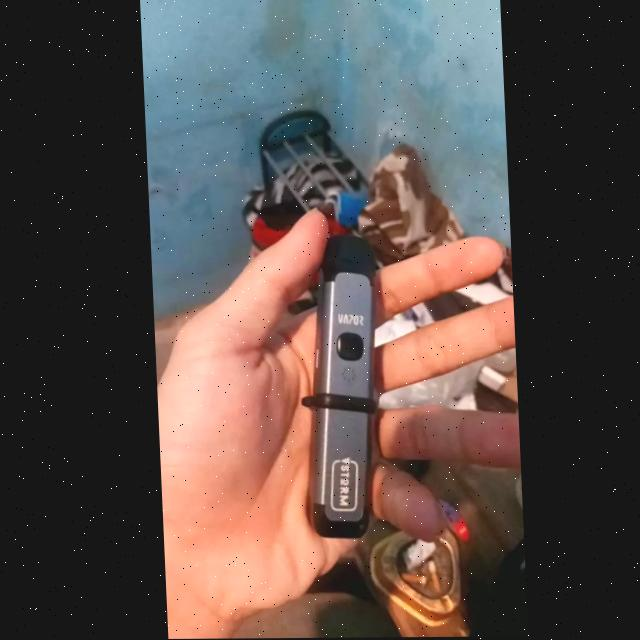vape: (290, 233, 385, 539)
